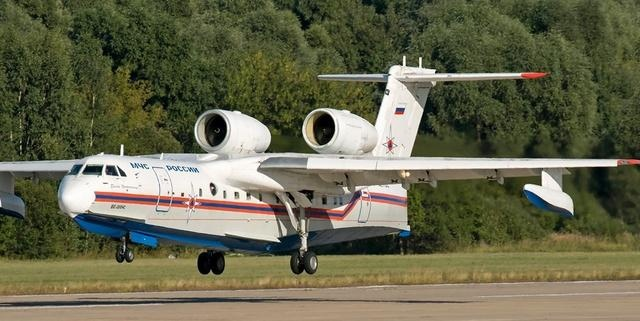airplane: (4, 57, 633, 264)
